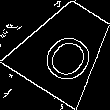O_NE: (30, 16, 99, 82)
